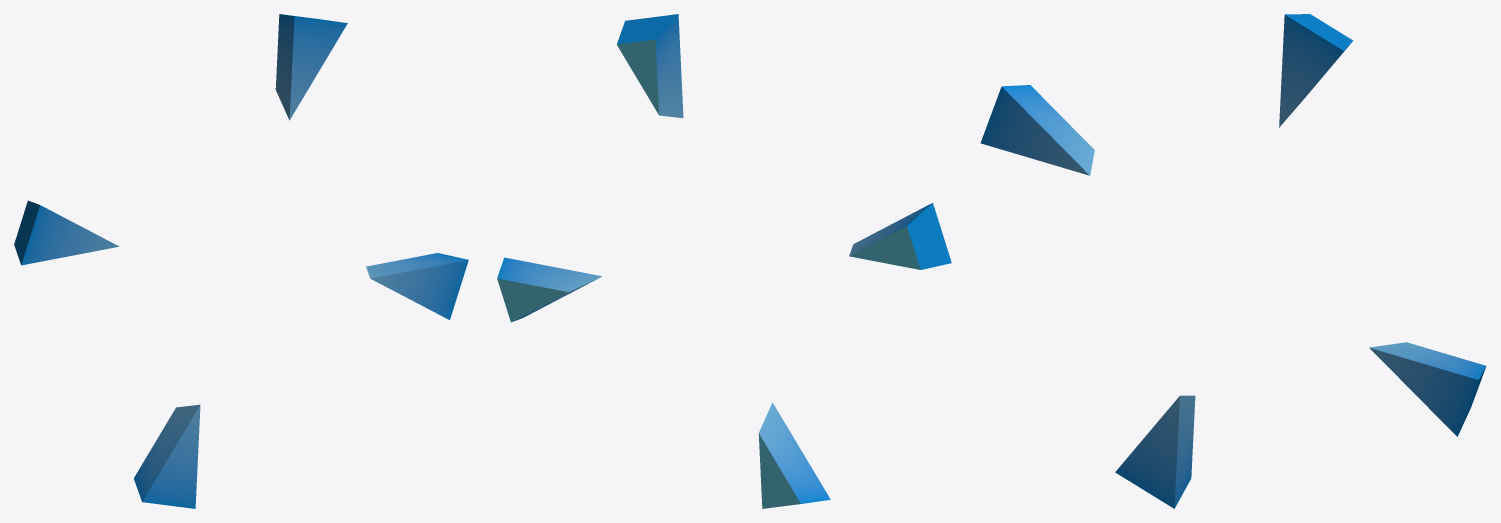
The model's file is fx_friendlytarget.fbx.
3 renders of one model, left to right at view 1: azimuth 30°, elevation 25°; view 2: azimuth 150°, elevation 25°; view 3: azimuth 330°, elevation 25°, orthographic. The views are drawn at different scales.
Parts seen in each view (by area): view 1: fx_friendlytarget; view 2: fx_friendlytarget; view 3: fx_friendlytarget.
Part boxes in pixels (bbox=[...]): fx_friendlytarget: bbox=[14, 14, 468, 508]; fx_friendlytarget: bbox=[497, 14, 951, 508]; fx_friendlytarget: bbox=[980, 14, 1486, 508].
Bounding box in the file's own units: 9 × 9 × 0.6648.
